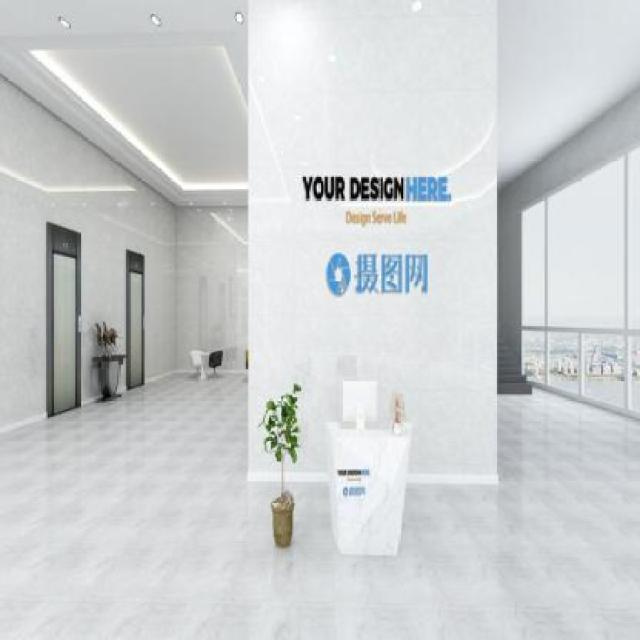frontdesk: (318, 409, 418, 566)
